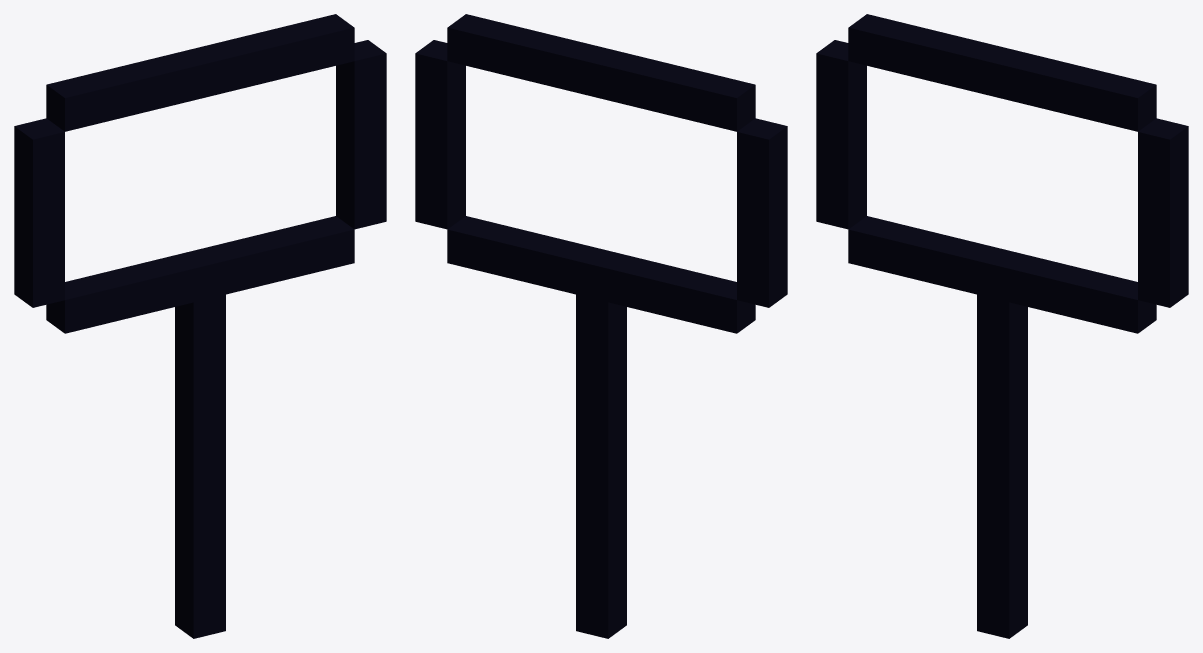
The picture shows the model from 3 angles, left to right: view 1: azimuth 30°, elevation 25°; view 2: azimuth 150°, elevation 25°; view 3: azimuth 330°, elevation 25°; orthographic projection.
Parts seen in each view (by area): view 1: 75; view 2: 75; view 3: 75.
Part boxes in pixels (x1=…): 75: x1=14, y1=14, x2=386, y2=638; 75: x1=415, y1=14, x2=787, y2=638; 75: x1=816, y1=14, x2=1188, y2=638.
Size of the model in its own units: 110 by 170 by 10.
Materials: 1 (1 with a texture image).
